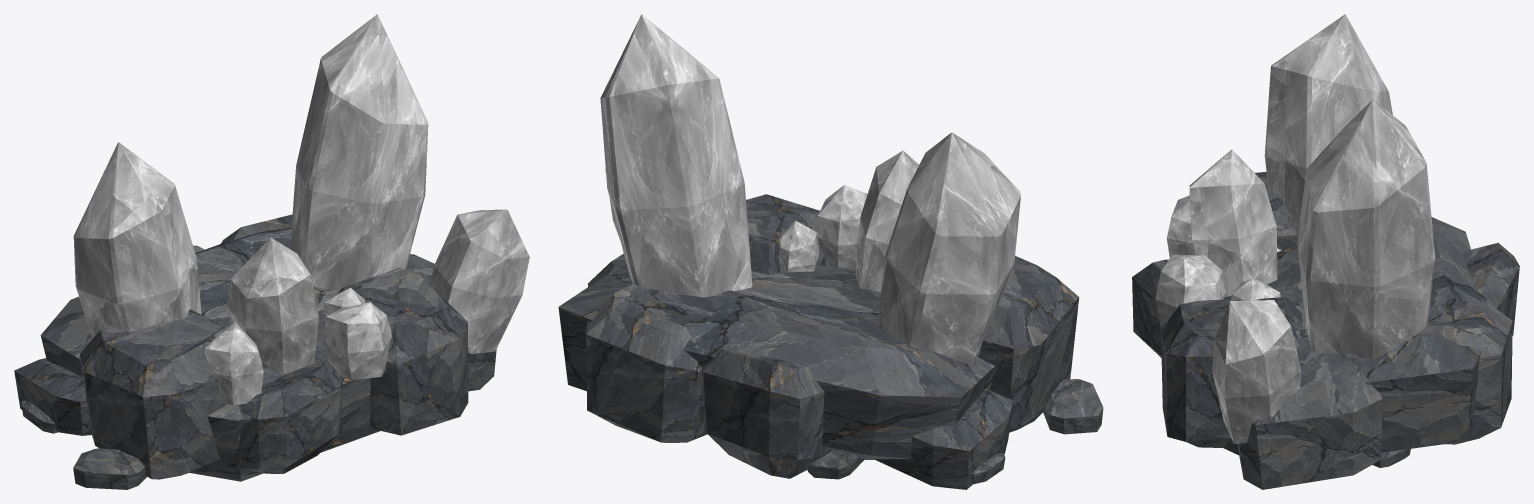
Rendered from Ore_Y1.fbx.
3 renders of one model, left to right at view 1: azimuth 30°, elevation 25°; view 2: azimuth 150°, elevation 25°; view 3: azimuth 270°, elevation 25°, orthographic. The views are drawn at different scales.
Visible parts, largest first — view 1: Ore_Y1_LOD0; view 2: Ore_Y1_LOD0; view 3: Ore_Y1_LOD0.
Boxes of the visible parts, bbox=[...] form: Ore_Y1_LOD0: bbox=[14, 14, 529, 489]; Ore_Y1_LOD0: bbox=[558, 14, 1103, 489]; Ore_Y1_LOD0: bbox=[1132, 14, 1519, 489].
Size of what is drawn, in the model's own units: 1.42 by 1.05 by 1.01.
Materials: 2 (2 with a texture image).
